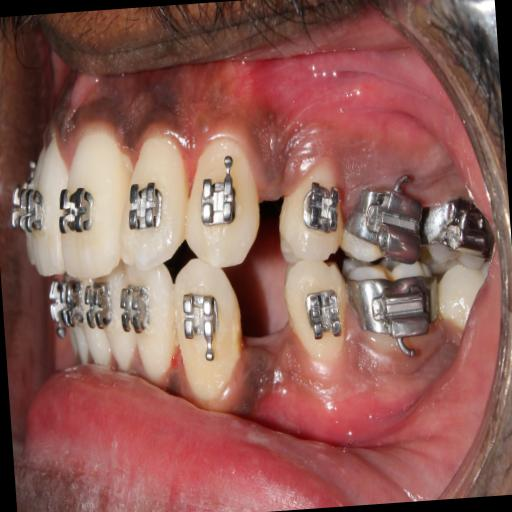correct_brace: (283, 258, 351, 369), (276, 160, 344, 266), (197, 152, 239, 228), (180, 286, 222, 360), (305, 285, 342, 346), (126, 180, 165, 232)
incorrect_brace: (112, 127, 190, 269), (299, 178, 341, 238)
